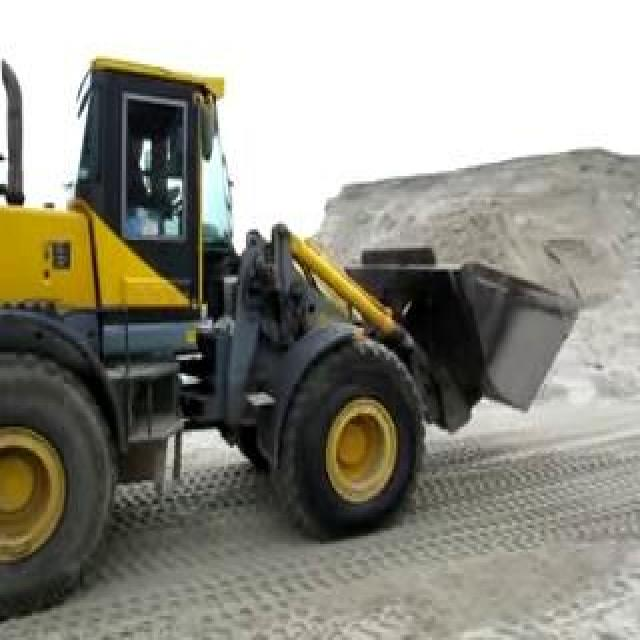Loader: (0, 51, 582, 613)
